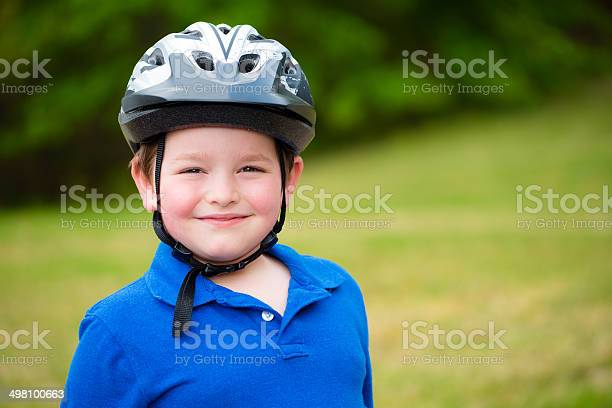helmet: (119, 21, 318, 262)
